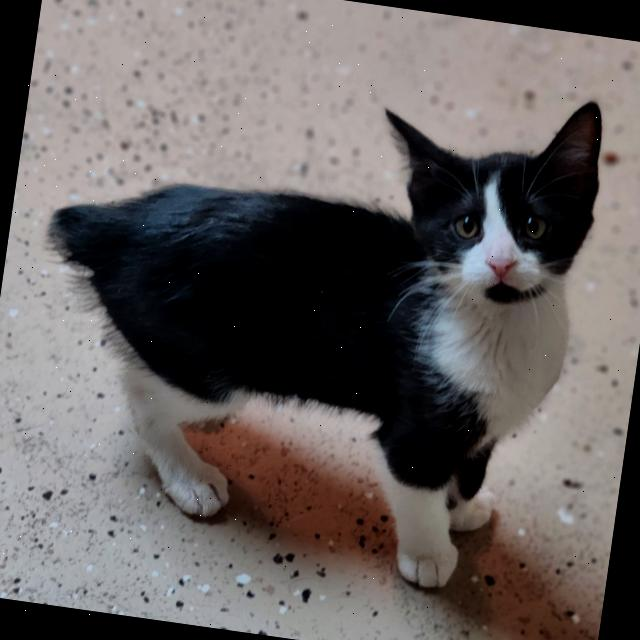manx_cat: (354, 61, 621, 336)
